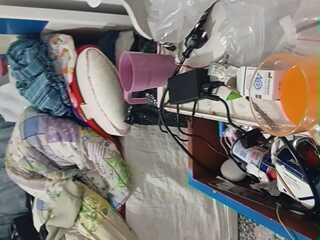cup: (249, 52, 316, 131), (278, 54, 319, 128), (118, 51, 175, 104)
